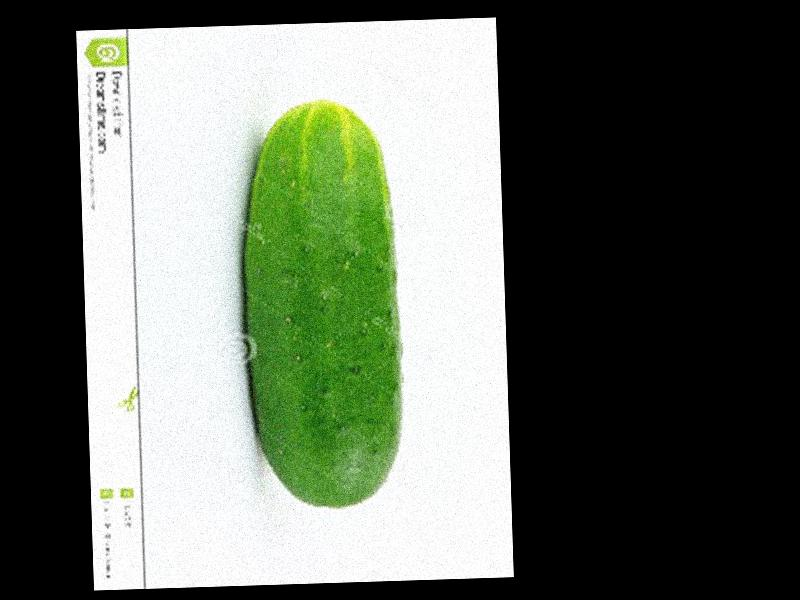Cucumber: (237, 100, 403, 511)
